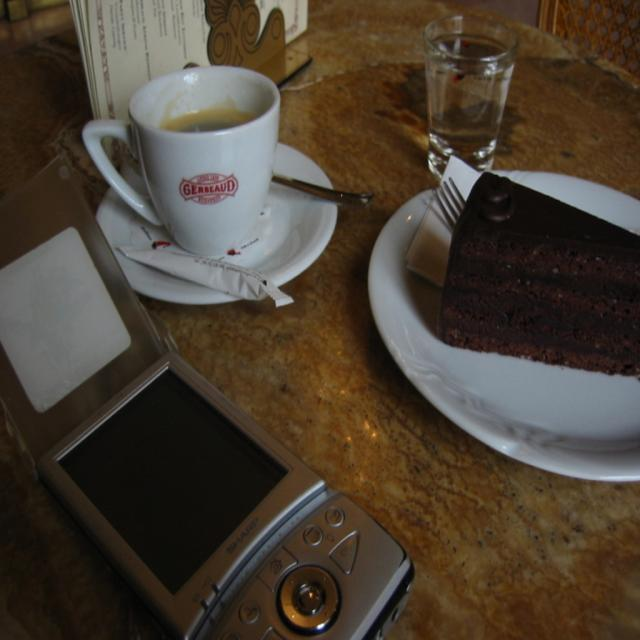Coffee: (152, 110, 256, 137)
Tea: (160, 111, 258, 131)
